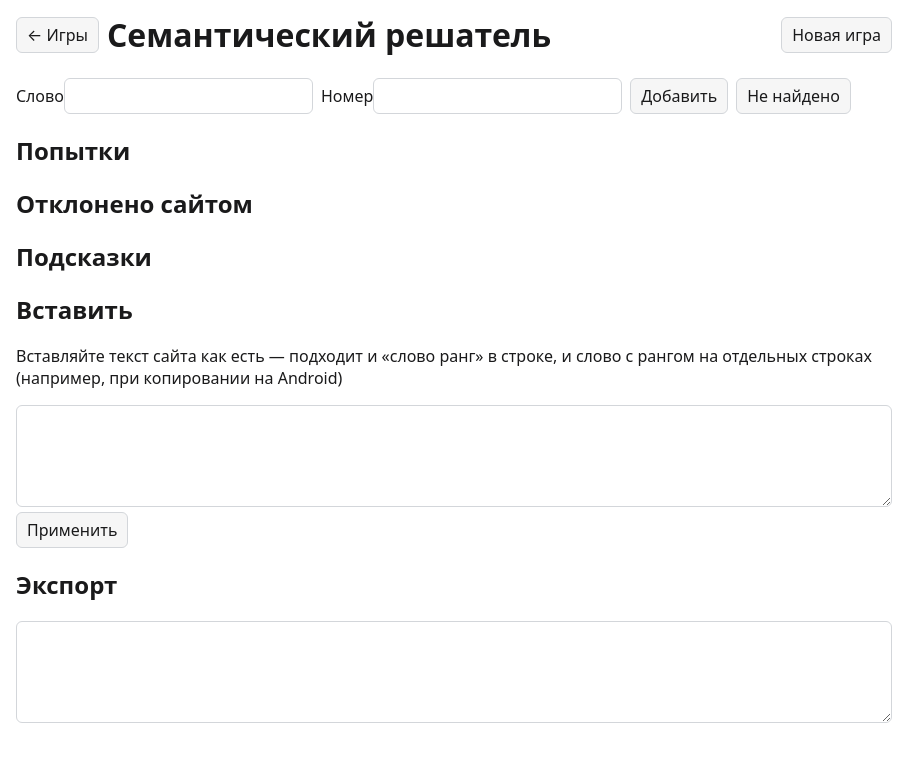
Scenario: SemanticScreen › asks before discarding a game in progress, and does not clear on the first click
In the field labelled "Слово": [188, 96] box [64,78,313,114], type "снег"
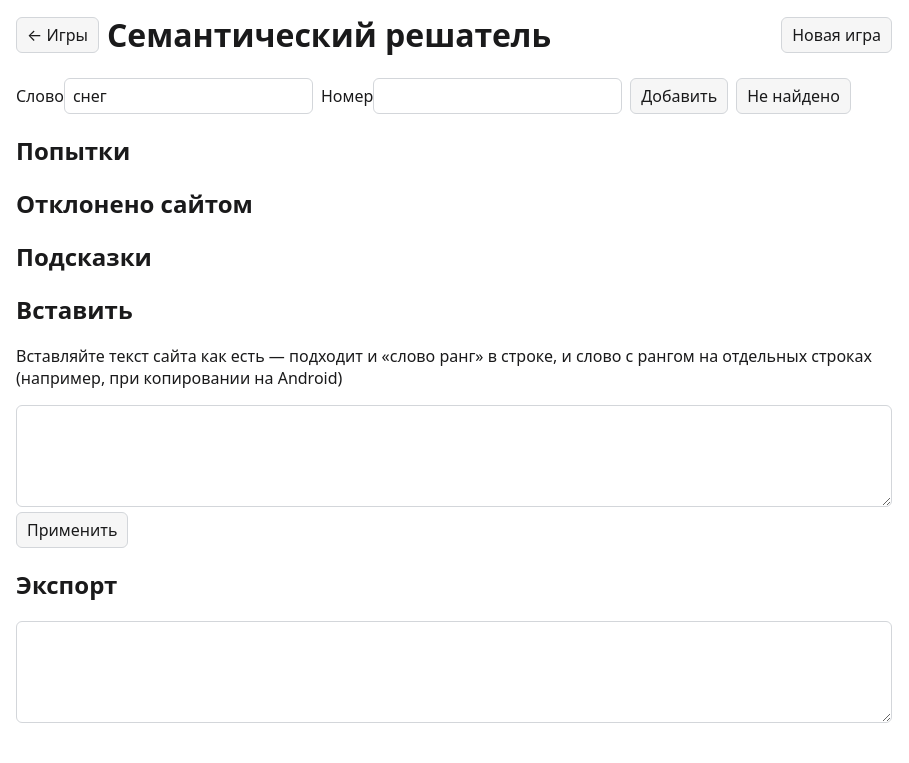
In the field labelled "Номер": [498, 96] box [373,78,622,114], type "206"
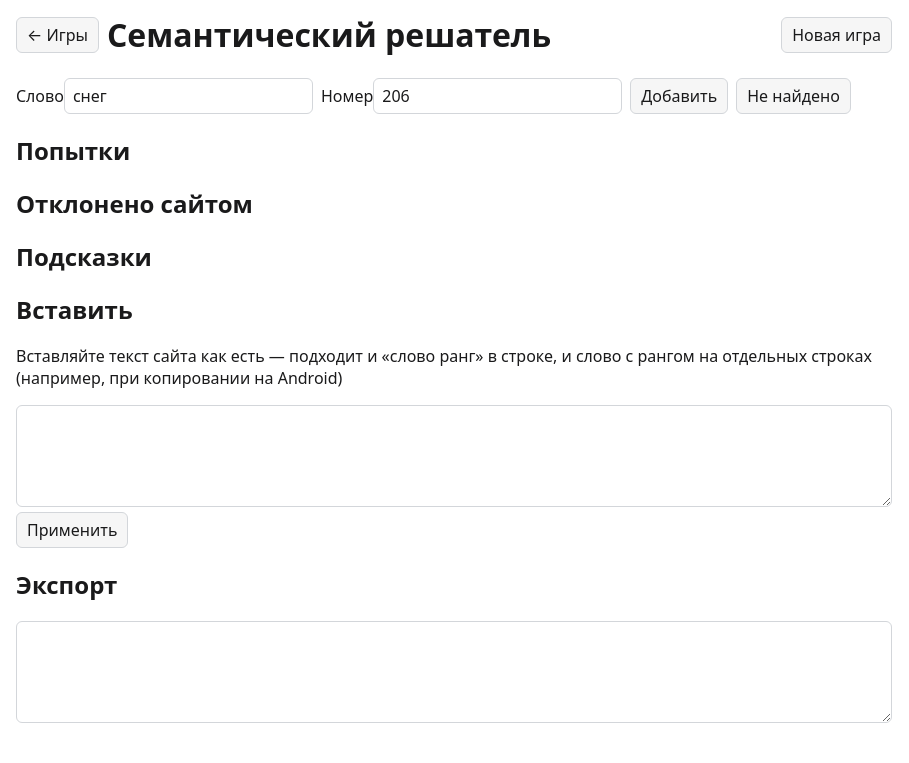
Click the button "Добавить": [679, 96] box [630,78,728,114]
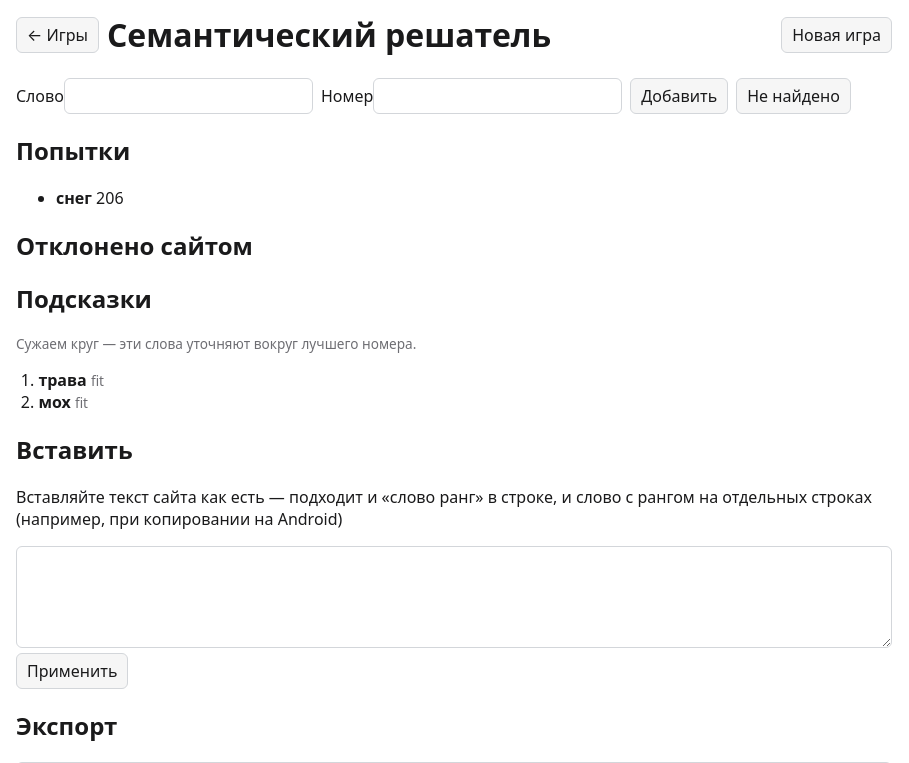
Expected: the number of list items with test id "guess-row" is 1, [56,187,124,209]
Click the button with test id "semantic-new": [837, 35] box [781,17,892,53]
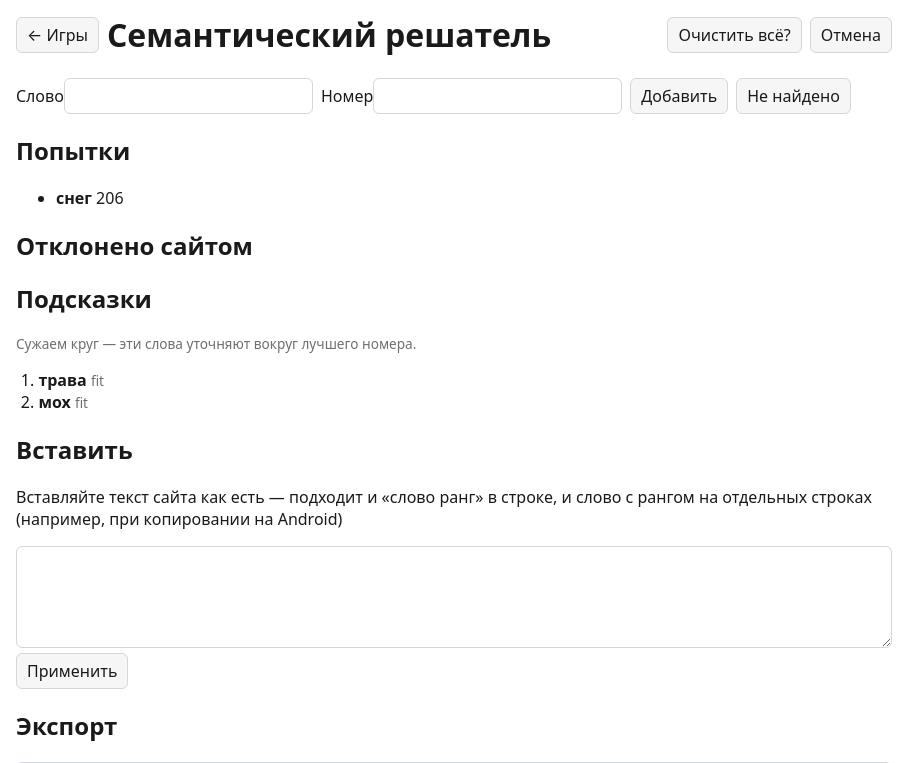
Expected: the number of list items with test id "guess-row" is 1, [56,187,124,209]
Expected: the button with test id "semantic-new-cancel" is shown, [810,17,892,53]
Click the button with test id "semantic-new": [735, 35] box [667,17,802,53]
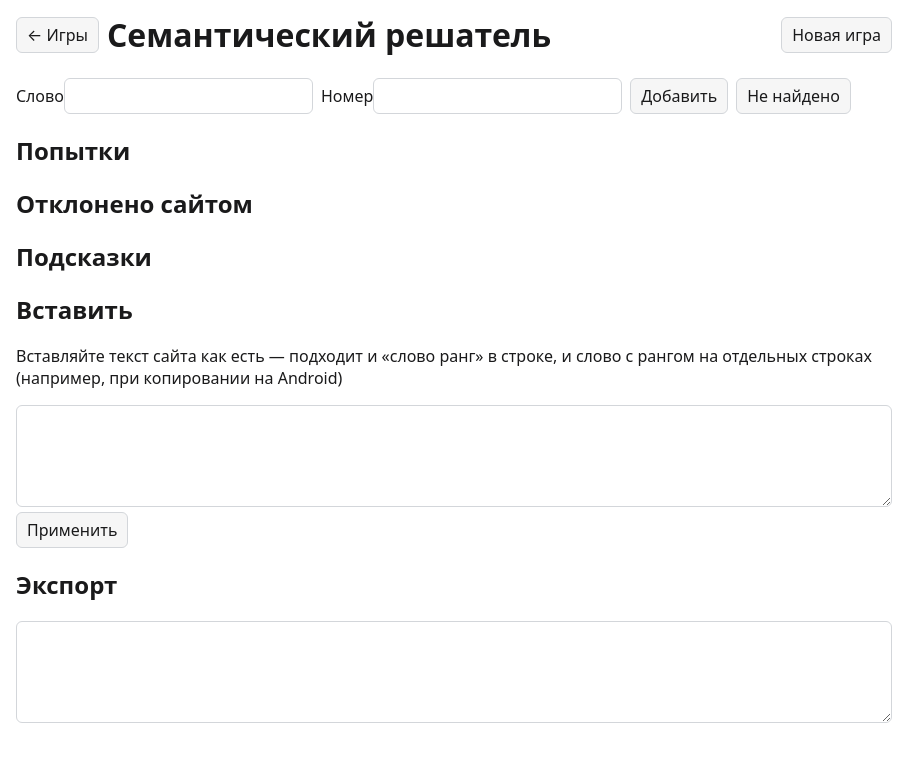
Expected: no list items with test id "guess-row" are shown
